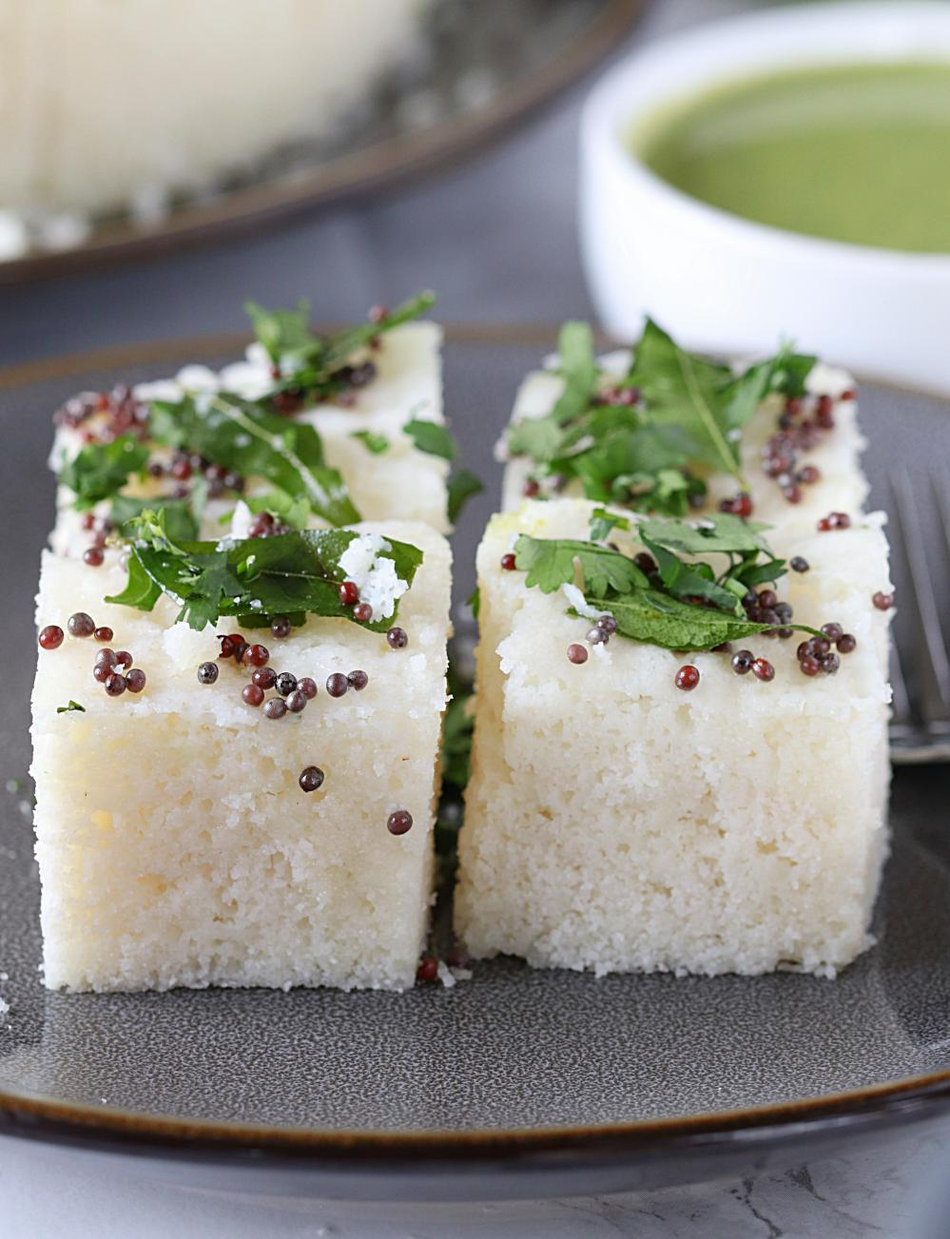dhokla: (29, 303, 950, 995)
